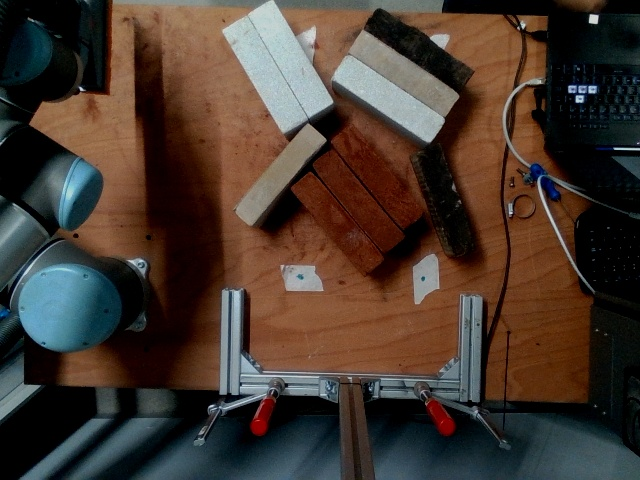brick-side: (335, 55, 445, 141), (349, 29, 459, 114), (249, 1, 331, 114), (364, 6, 473, 90), (224, 16, 305, 129), (332, 131, 421, 231), (293, 172, 381, 272), (313, 150, 401, 250), (236, 125, 323, 222), (420, 143, 476, 254)
